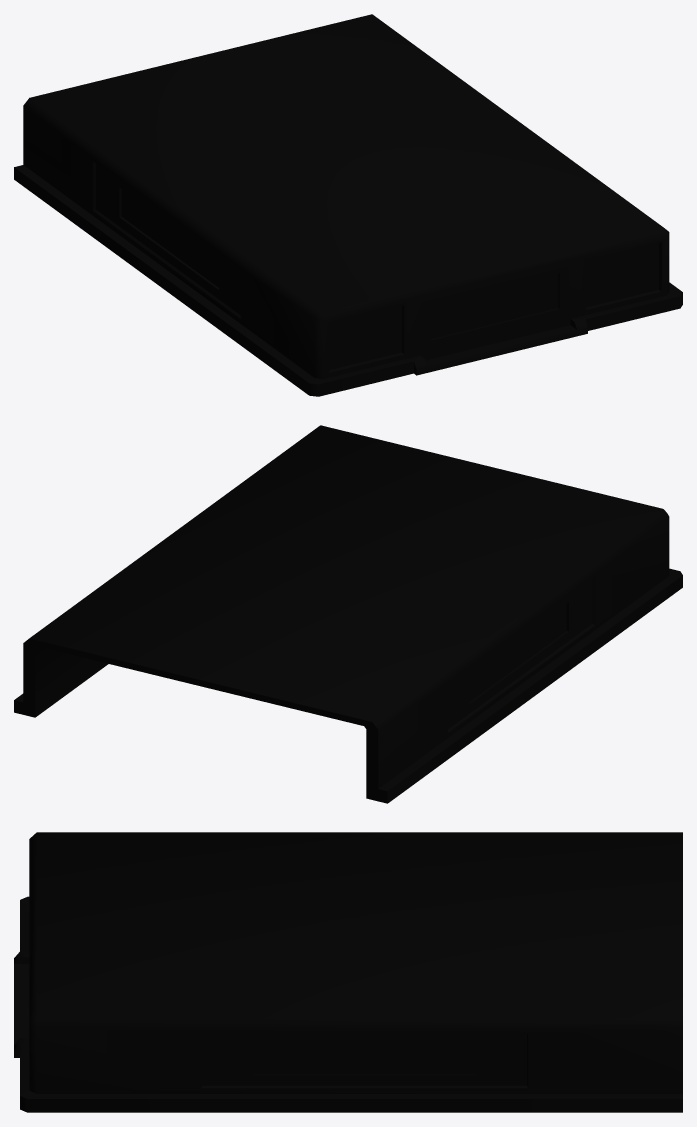
The picture shows the model from 3 angles, top to bottom: view 1: azimuth 30°, elevation 25°; view 2: azimuth 150°, elevation 25°; view 3: azimuth 270°, elevation 25°; orthographic projection. The views are drawn at different scales.
Visible parts, largest first — view 1: Joint_0_Object_0; view 2: Joint_0_Object_0; view 3: Joint_0_Object_0.
Part boxes in pixels (box(x1,y1,x2,y2)): Joint_0_Object_0: box(14, 14, 682, 396); Joint_0_Object_0: box(14, 425, 682, 803); Joint_0_Object_0: box(14, 832, 682, 1112).
Size of the model in its own units: 1580 by 315 by 2208.
1 material, 1 textured.
